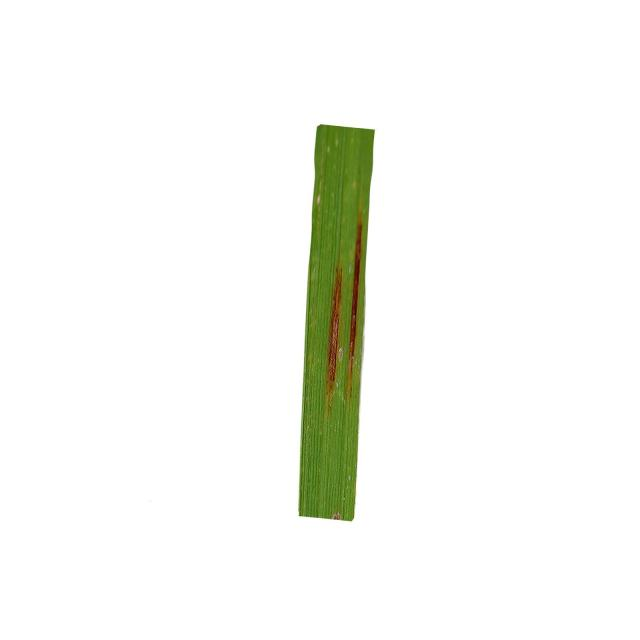Narrow brown: (251, 55, 486, 553)
